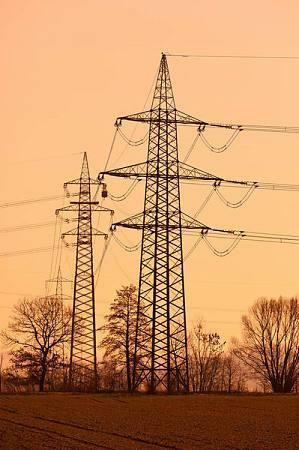power_tower: (107, 48, 224, 396), (52, 145, 115, 395)
